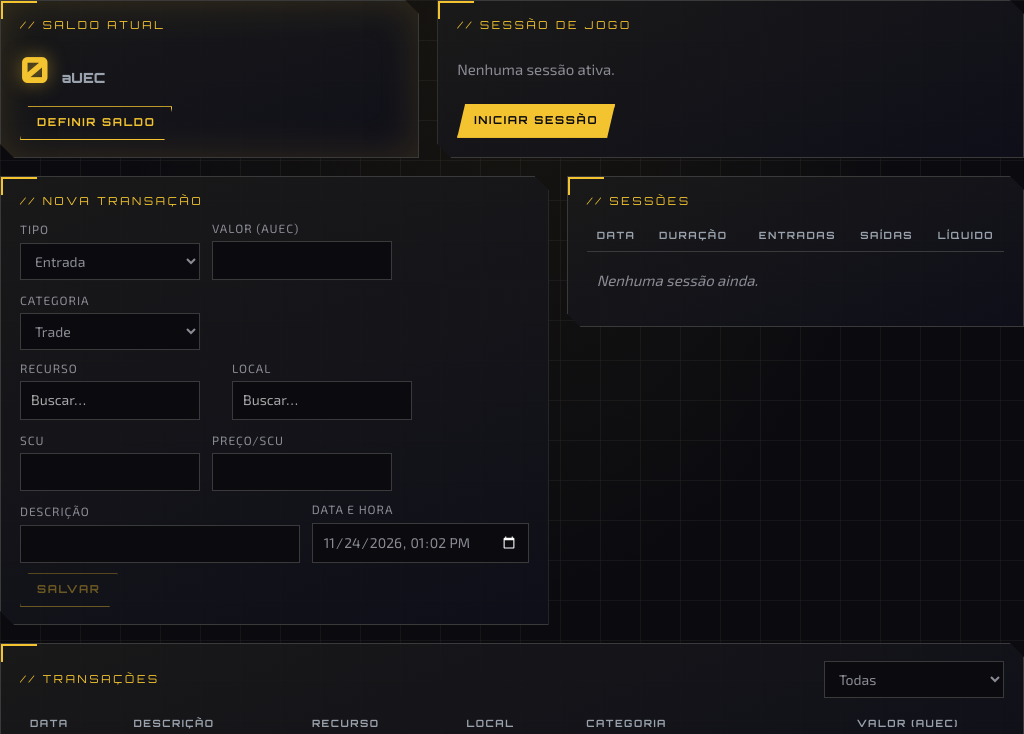
Scenario: ProgressView › definir saldo
The width and height of the screenshot is (1024, 734).
Click the button "Definir saldo".
click(96, 123)  # box x1=20 y1=106 x2=172 y2=140
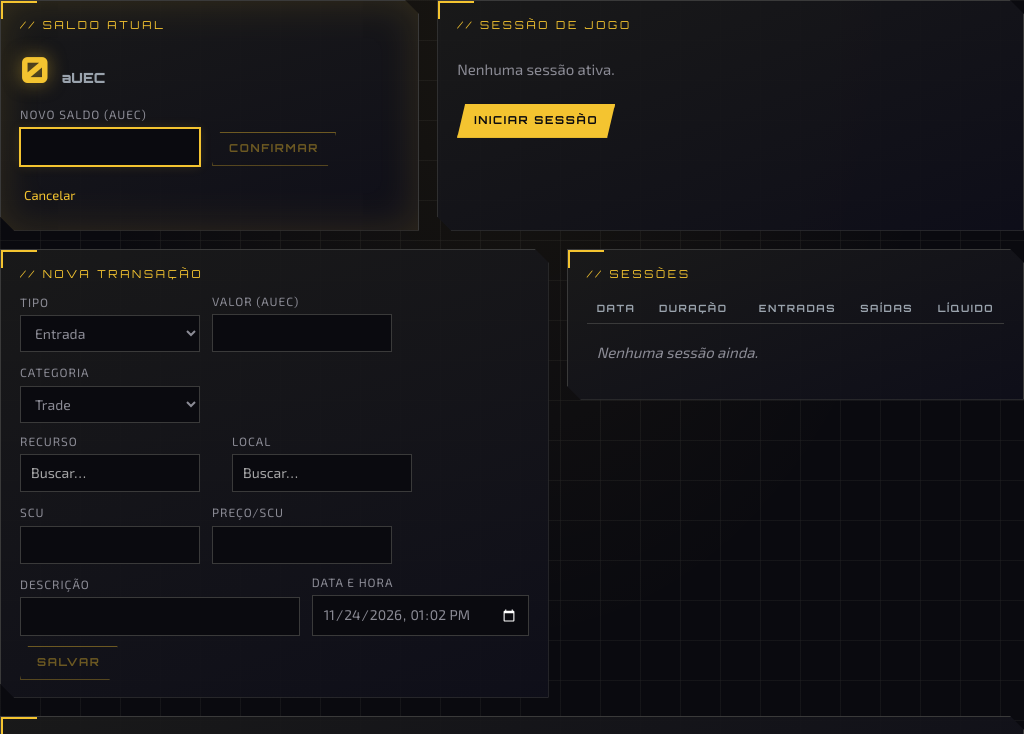
Type "1.000.000" into the field labelled "Novo saldo (aUEC)".
click(110, 147); type("1.000.000")  # box x1=20 y1=128 x2=200 y2=166
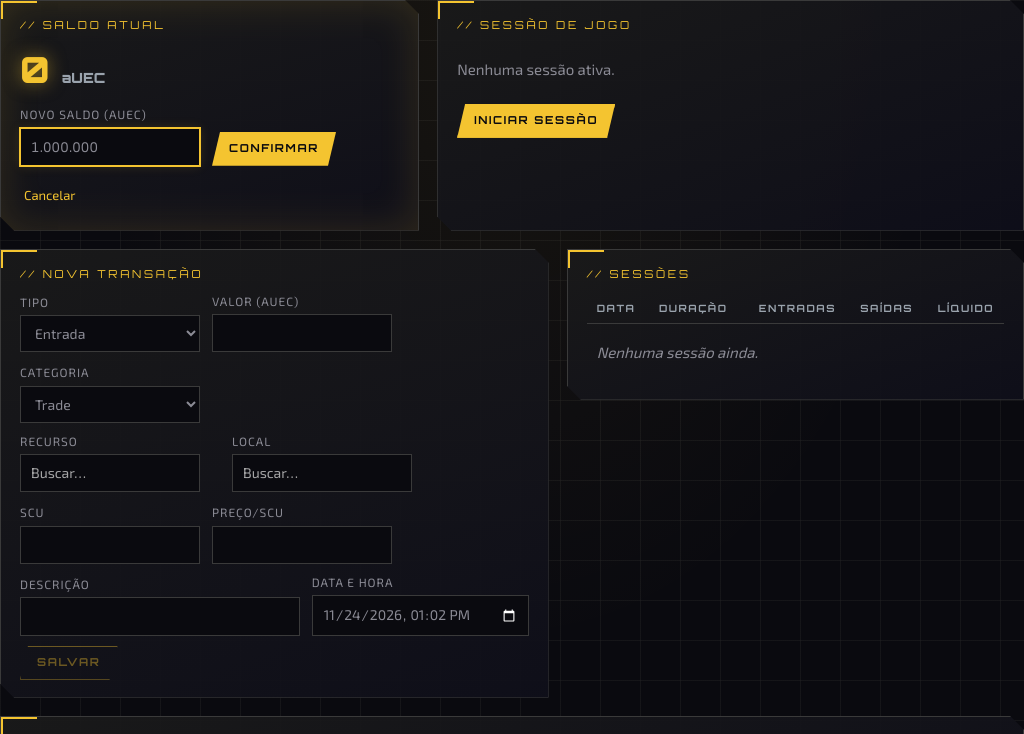
Click the button "Confirmar".
click(274, 149)  # box x1=212 y1=132 x2=336 y2=166
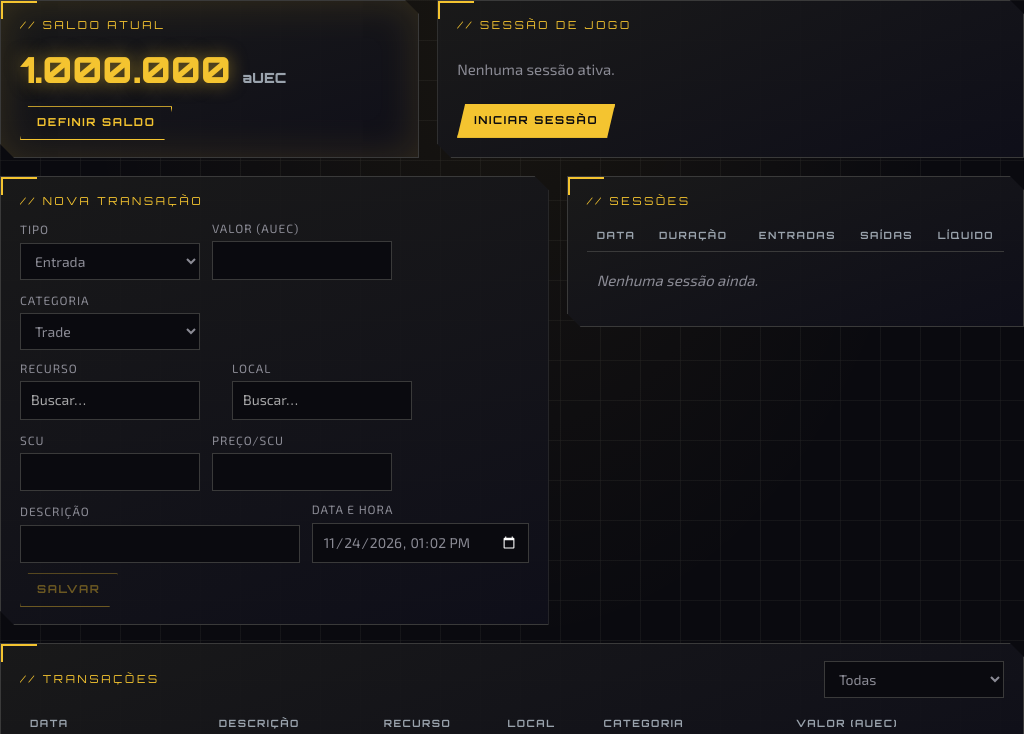
Now the element with test id "balance" shows "1.000.000", box x1=20 y1=47 x2=231 y2=92
